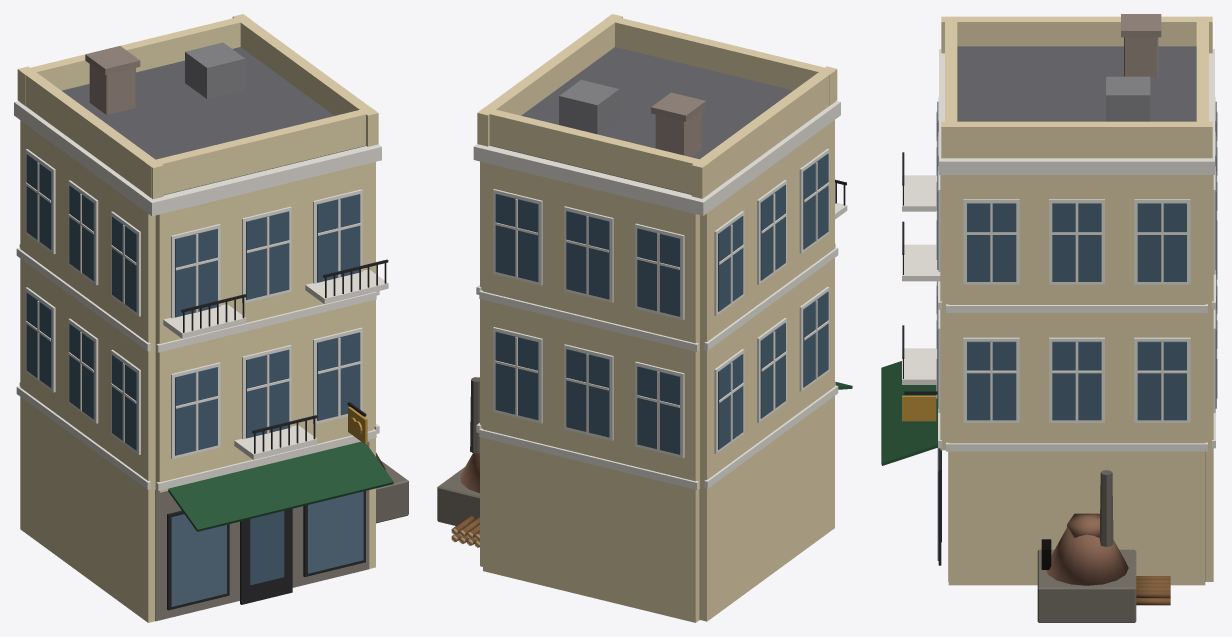
The model's file is bakery_4.glb.
3 views of the same model, side by side, from view 1: azimuth 30°, elevation 25°; view 2: azimuth 150°, elevation 25°; view 3: azimuth 270°, elevation 25° (orthographic).
Parts seen in each view (by area): view 1: bakery4_plaster, bakery4_glass, bakery4_stone, bakery4_wood, bakery4_cloth, bakery4_iron, bakery4_brick; view 2: bakery4_plaster, bakery4_glass, bakery4_stone, bakery4_wood, bakery4_iron, bakery4_brick, bakery4_log, bakery4_clay; view 3: bakery4_plaster, bakery4_glass, bakery4_stone, bakery4_wood, bakery4_clay, bakery4_cloth, bakery4_iron, bakery4_brick, bakery4_log.
Boxes of the visible parts, <box> form: bakery4_plaster: <box>17,14,378,622</box>; bakery4_glass: <box>26,154,363,606</box>; bakery4_stone: <box>14,101,408,621</box>; bakery4_wood: <box>25,149,367,610</box>; bakery4_cloth: <box>168,441,393,531</box>; bakery4_iron: <box>181,42,388,453</box>; bakery4_brick: <box>85,46,140,114</box>; bakery4_plaster: <box>477,14,837,622</box>; bakery4_glass: <box>495,153,828,454</box>; bakery4_stone: <box>437,101,847,619</box>; bakery4_wood: <box>493,148,829,458</box>; bakery4_iron: <box>559,80,846,205</box>; bakery4_brick: <box>651,92,705,156</box>; bakery4_log: <box>451,515,479,547</box>; bakery4_clay: <box>460,453,479,493</box>; bakery4_plaster: <box>940,16,1213,585</box>; bakery4_glass: <box>937,101,1216,560</box>; bakery4_stone: <box>902,49,1215,622</box>; bakery4_wood: <box>902,97,1217,565</box>; bakery4_clay: <box>1046,513,1128,585</box>; bakery4_cloth: <box>881,361,937,465</box>; bakery4_iron: <box>902,76,1150,394</box>; bakery4_brick: <box>1121,14,1161,77</box>; bakery4_log: <box>1136,576,1170,605</box>.
Bounding box in the file's own units: 7.25 × 10.77 × 6.83.
